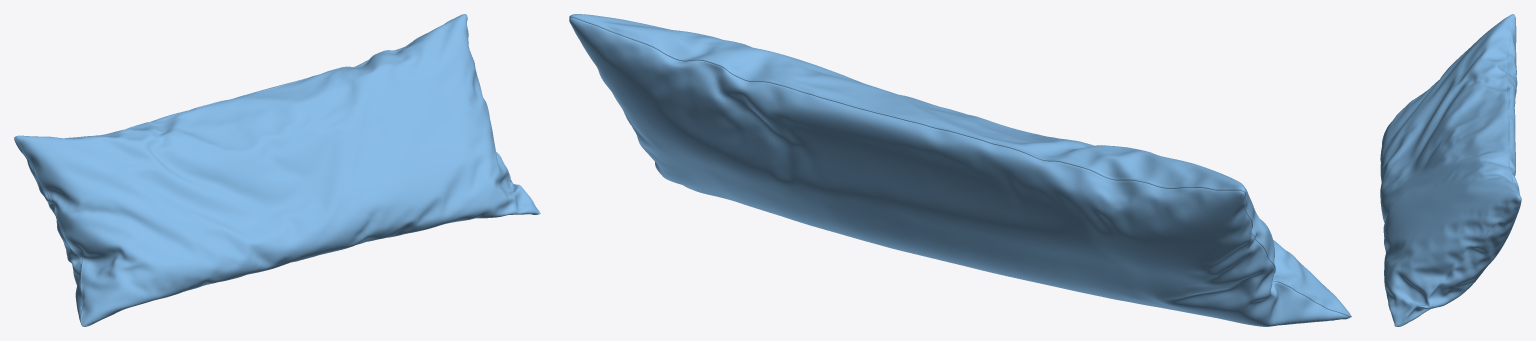
Rendered from evgenDefoult8.gltf.
The picture shows the model from 3 angles, left to right: view 1: azimuth 30°, elevation 25°; view 2: azimuth 150°, elevation 25°; view 3: azimuth 270°, elevation 25°; orthographic projection. The views are drawn at different scales.
Parts seen in each view (by area): view 1: evgenDefoult8; view 2: evgenDefoult8; view 3: evgenDefoult8.
Part boxes in pixels (x1,y1,x2,y2): evgenDefoult8: (14,14,540,326); evgenDefoult8: (569,14,1351,326); evgenDefoult8: (1380,14,1521,326).
Size of the model in its own units: 0.8522 by 0.2646 by 0.2619.
